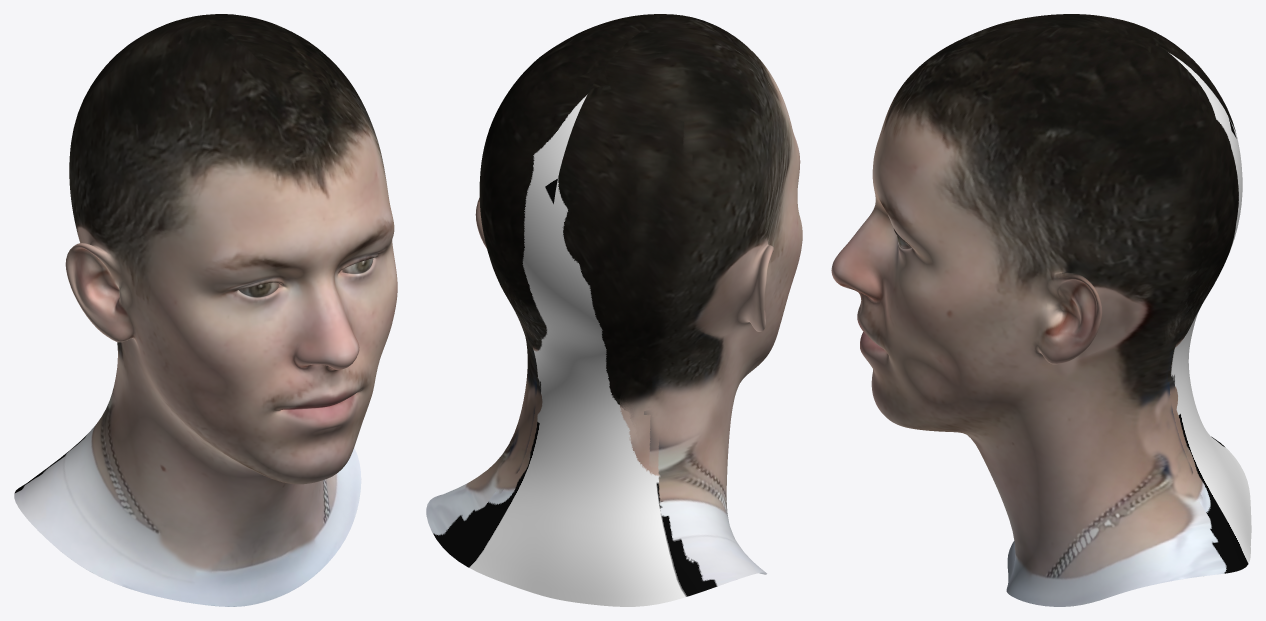
The model's file is joshua-head.glb.
3 renders of one model, left to right at view 1: azimuth 30°, elevation 25°; view 2: azimuth 150°, elevation 25°; view 3: azimuth 270°, elevation 25°, orthographic.
Parts seen in each view (by area): view 1: FBHead.001; view 2: FBHead.001; view 3: FBHead.001.
Boxes of the visible parts, box(x1,y1,x2,y2) form: FBHead.001: box(14, 14, 397, 606); FBHead.001: box(426, 14, 802, 606); FBHead.001: box(831, 14, 1251, 606).
Bounding box in the file's own units: 1.94 × 3.17 × 2.18.
1 material, 1 textured.
